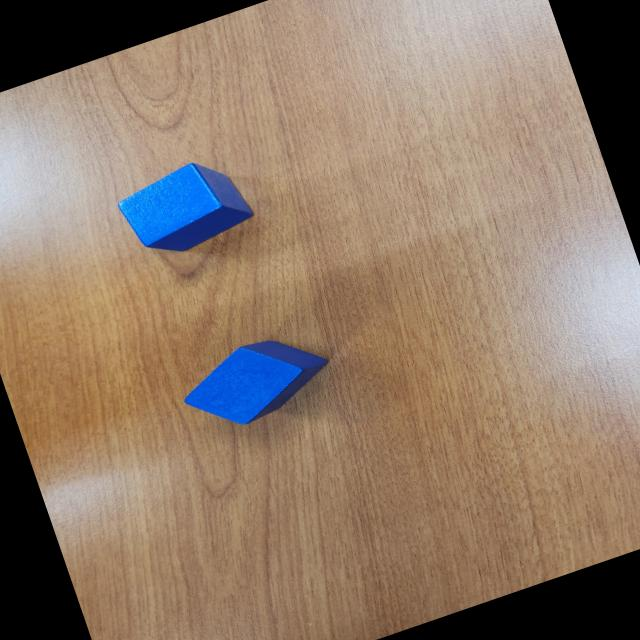blue: (172, 321, 340, 441), (112, 149, 258, 267)
